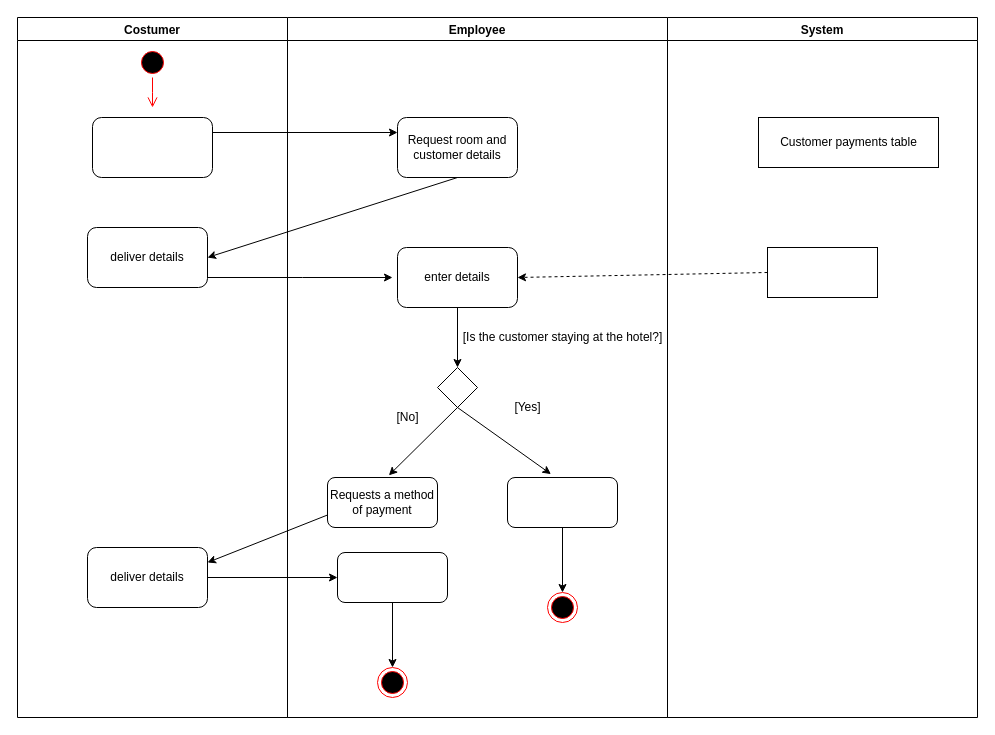
The diagram is 995 pixels wide and 735 high, and some of its shapes have lost their labels. The centre of each missing label's shape, as x and y in pixels:
"Add Additional charge for room bill" goes at point (562, 502).
"Ask to purchase a product" goes at point (152, 147).
"Billing the customer" goes at point (392, 577).
"rooms table" goes at point (822, 272).
